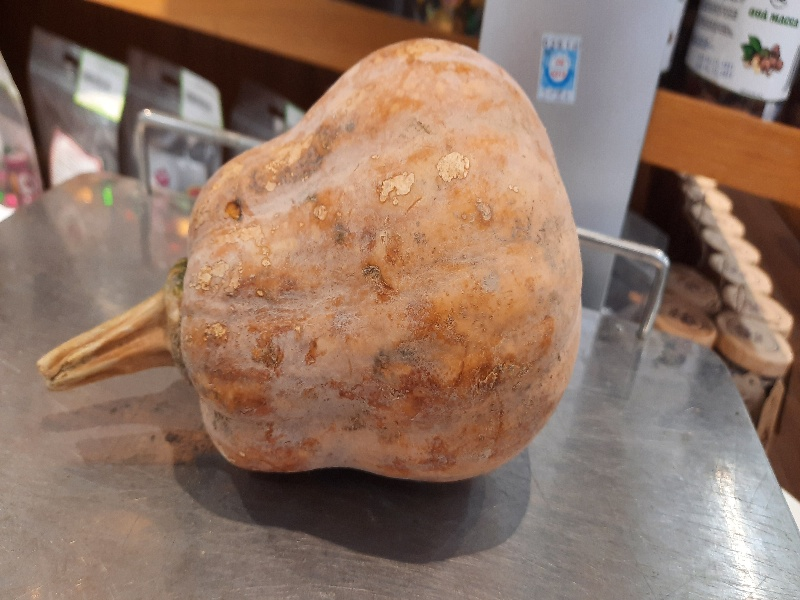vege: (27, 40, 580, 489)
